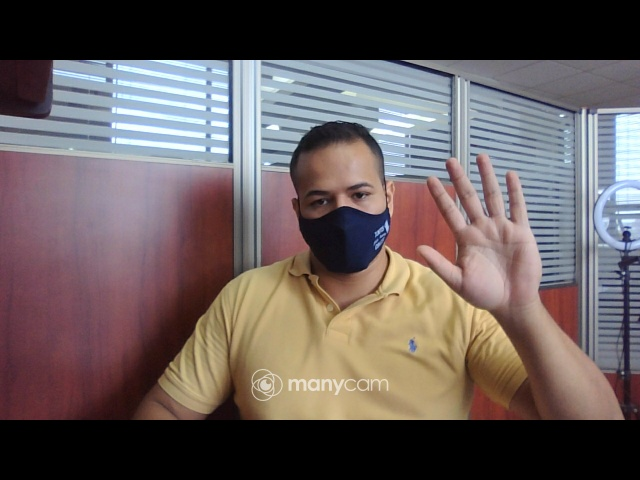Hello: (416, 151, 549, 318)
